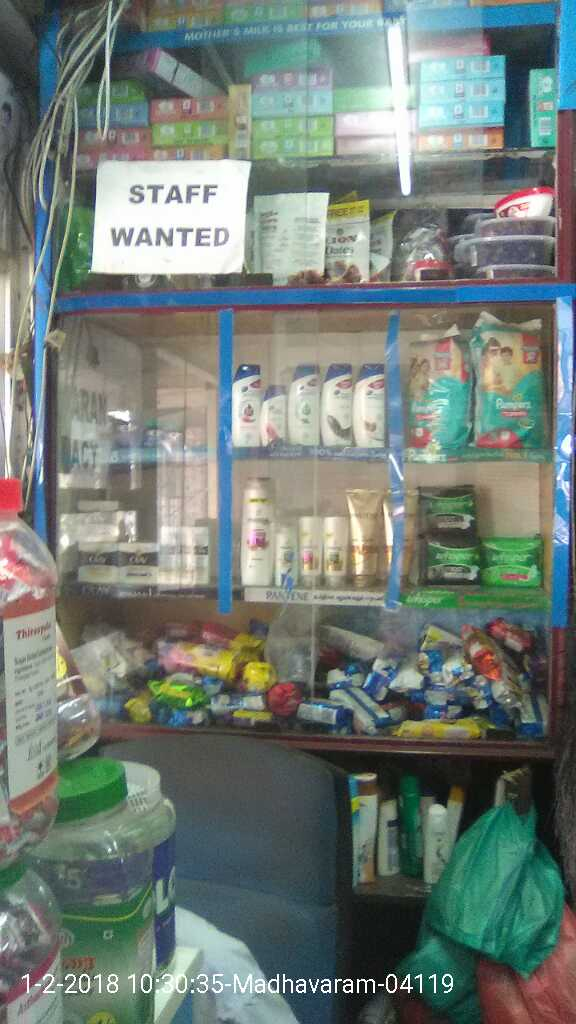vicks: (113, 418, 205, 458)
